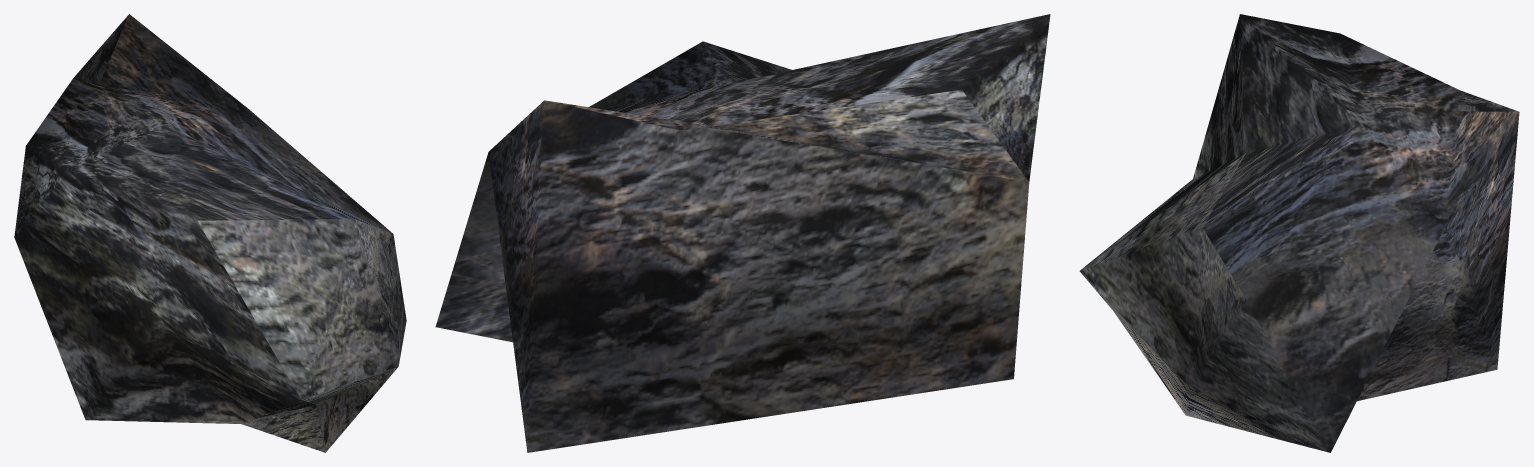
The model's file is Rock2.glb.
The picture shows the model from 3 angles, left to right: view 1: azimuth 30°, elevation 25°; view 2: azimuth 150°, elevation 25°; view 3: azimuth 270°, elevation 25°; orthographic projection. The views are drawn at different scales.
Visible parts, largest first — view 1: Cube.004; view 2: Cube.004; view 3: Cube.004.
Boxes of the visible parts, x1=… form: Cube.004: x1=14, y1=14, x2=406, y2=452; Cube.004: x1=435, y1=14, x2=1050, y2=452; Cube.004: x1=1079, y1=14, x2=1519, y2=452.
Size of the model in its own units: 1.76 by 1.31 by 1.76.
Materials: 1 (1 with a texture image).
